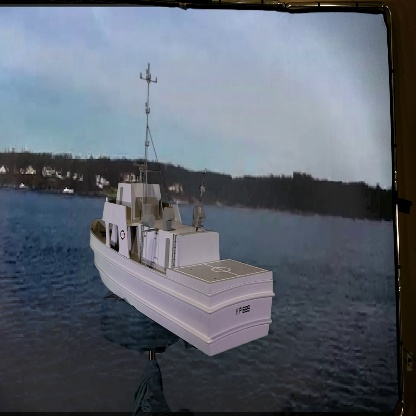YP689: (88, 61, 275, 358)
